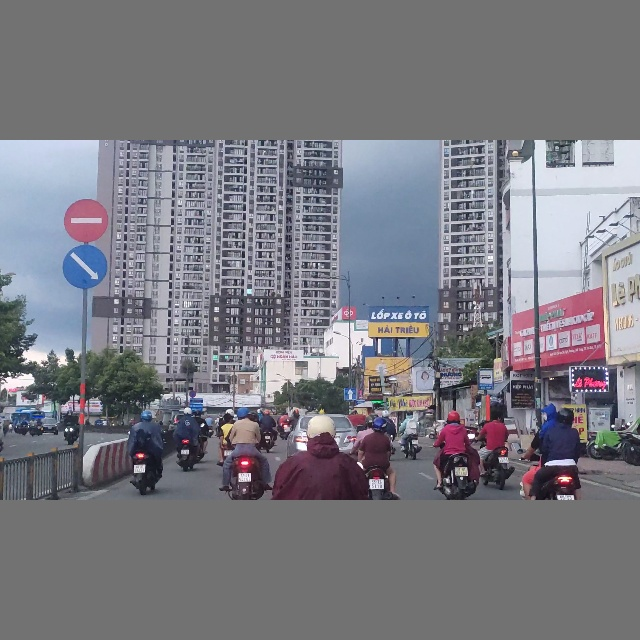I.407a: (344, 387, 357, 400)
I.434a: (478, 370, 494, 390)
P.102: (62, 197, 110, 244)
R.302a: (61, 244, 109, 290)
